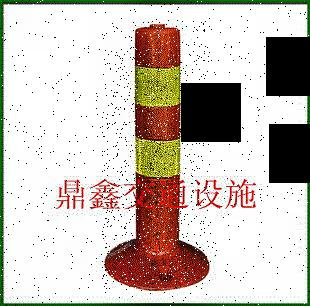bench: (102, 20, 210, 290)
